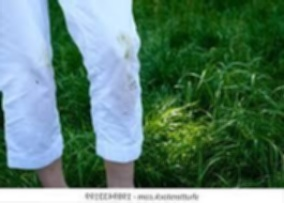earth: (121, 66, 135, 112), (121, 35, 133, 59)
